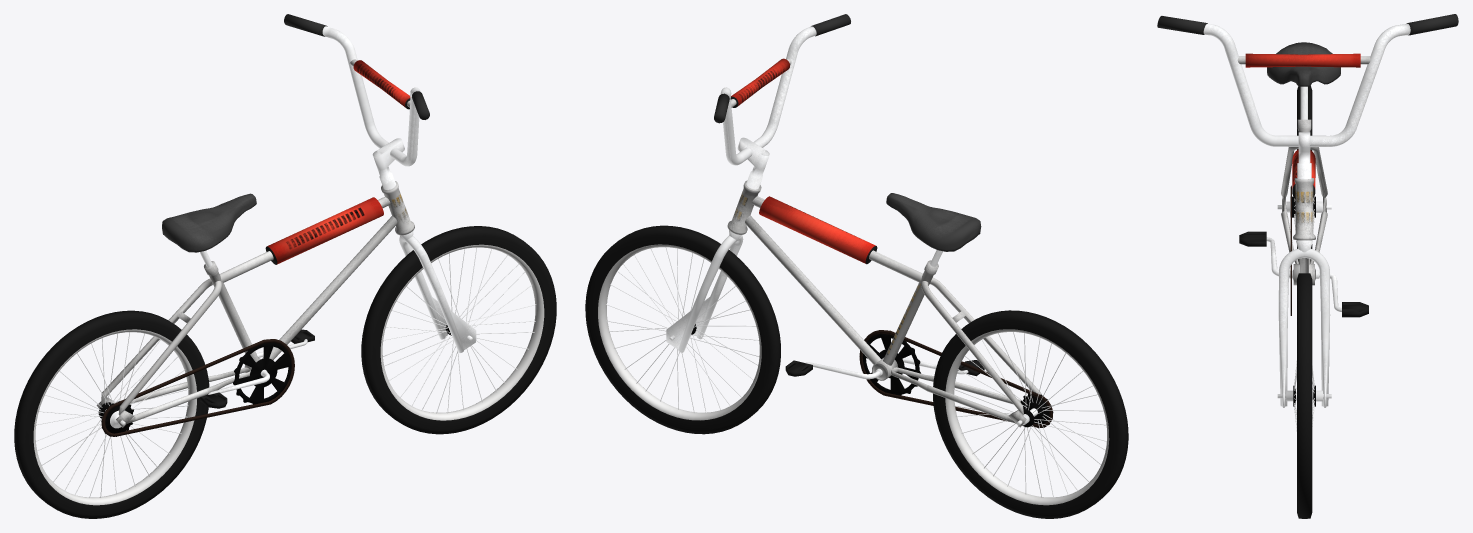
File: bike.glb
The picture shows the model from 3 angles, left to right: view 1: azimuth 30°, elevation 25°; view 2: azimuth 150°, elevation 25°; view 3: azimuth 270°, elevation 25°; orthographic projection. The views are drawn at different scales.
Visible parts, largest first — view 1: Frame; view 2: Frame; view 3: Frame.
Boxes of the visible parts, bbox=[...] form: Frame: bbox=[14, 14, 556, 518]; Frame: bbox=[585, 14, 1128, 518]; Frame: bbox=[1157, 14, 1458, 518].
Bounding box in the file's own units: 8.97 × 6.25 × 3.9.
Materials: 11 (10 with a texture image).
